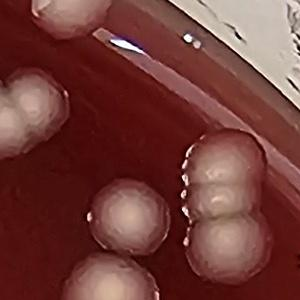colony: (176, 208, 282, 287), (81, 176, 173, 259), (4, 65, 72, 143), (54, 254, 164, 300), (178, 137, 263, 193), (176, 177, 266, 228), (197, 126, 272, 178), (24, 0, 118, 41), (0, 76, 39, 159)
